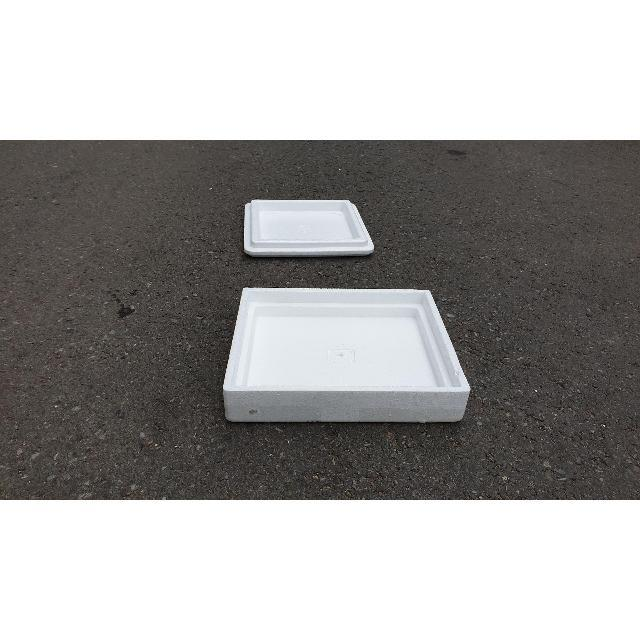Plastico descartable: (222, 288, 470, 425), (243, 200, 374, 260)
